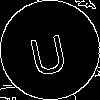U: (25, 25, 70, 77)
